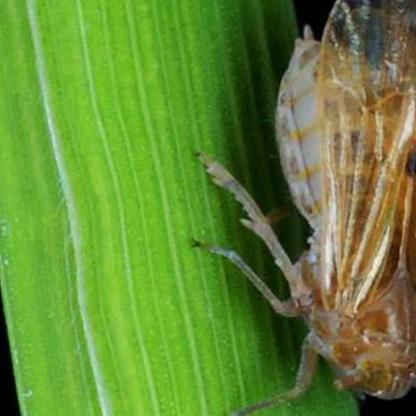brown-planthopper: (265, 24, 416, 405)
